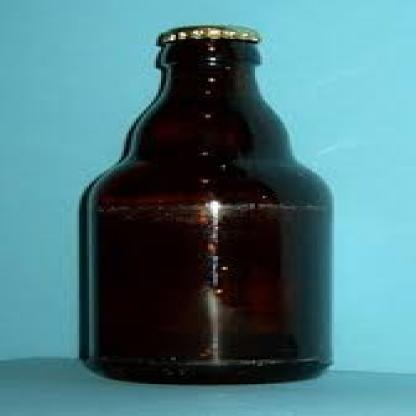trash: (80, 26, 331, 382)
